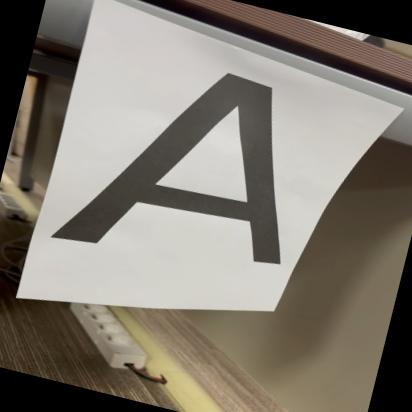seat: (46, 28, 335, 308)
